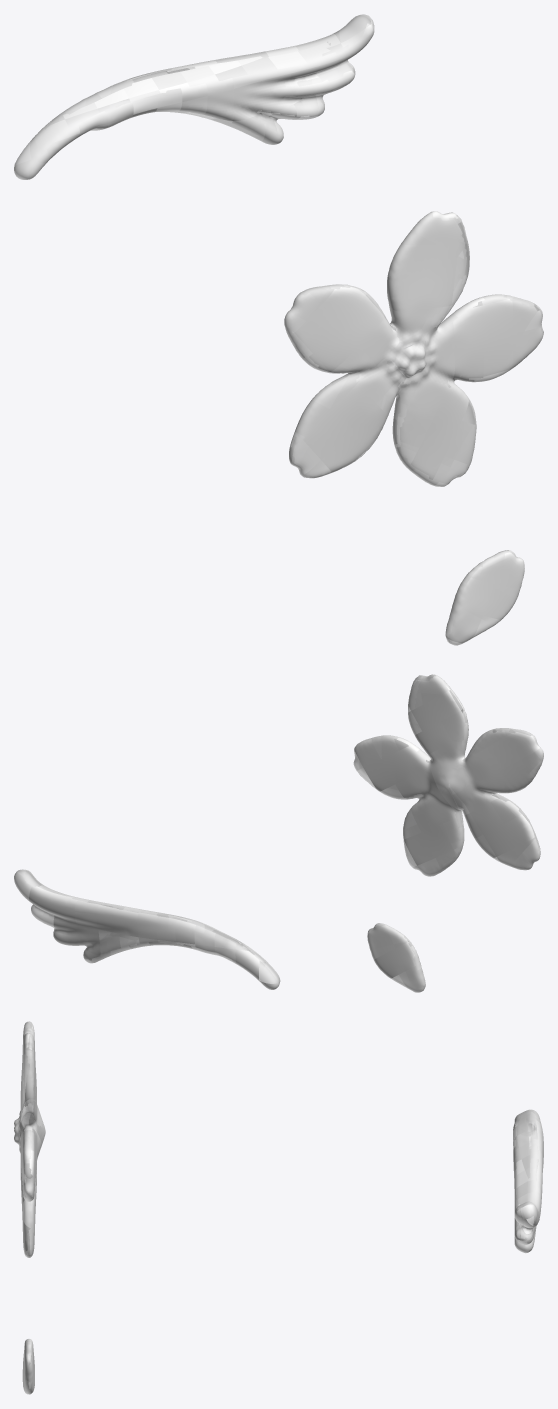
The model's file is announcement-left-transformed.glb.
The picture shows the model from 3 angles, top to bottom: view 1: azimuth 30°, elevation 25°; view 2: azimuth 150°, elevation 25°; view 3: azimuth 270°, elevation 25°; orthographic projection. The views are drawn at different scales.
Parts seen in each view (by area): view 1: Announcement; view 2: Announcement; view 3: Announcement.
Part boxes in pixels (x1=…): Announcement: x1=14, y1=14, x2=543, y2=645; Announcement: x1=14, y1=674, x2=543, y2=992; Announcement: x1=14, y1=1021, x2=543, y2=1394.
Bounding box in the file's own units: 147 × 152 × 211.
1 material, 1 textured.
